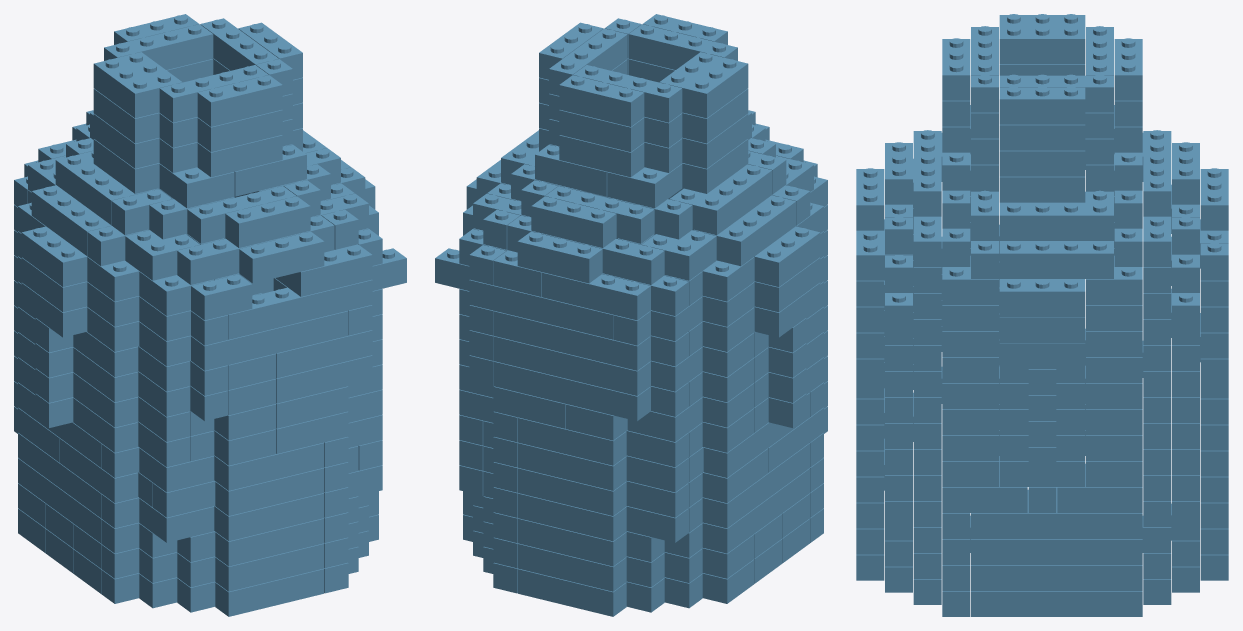
The model's file is 177_jar_L2.glb.
3 renders of one model, left to right at view 1: azimuth 30°, elevation 25°; view 2: azimuth 150°, elevation 25°; view 3: azimuth 270°, elevation 25°, orthographic. The views are drawn at different scales.
Bounding box in the file's own units: 12.98 × 19.13 × 12.98.
